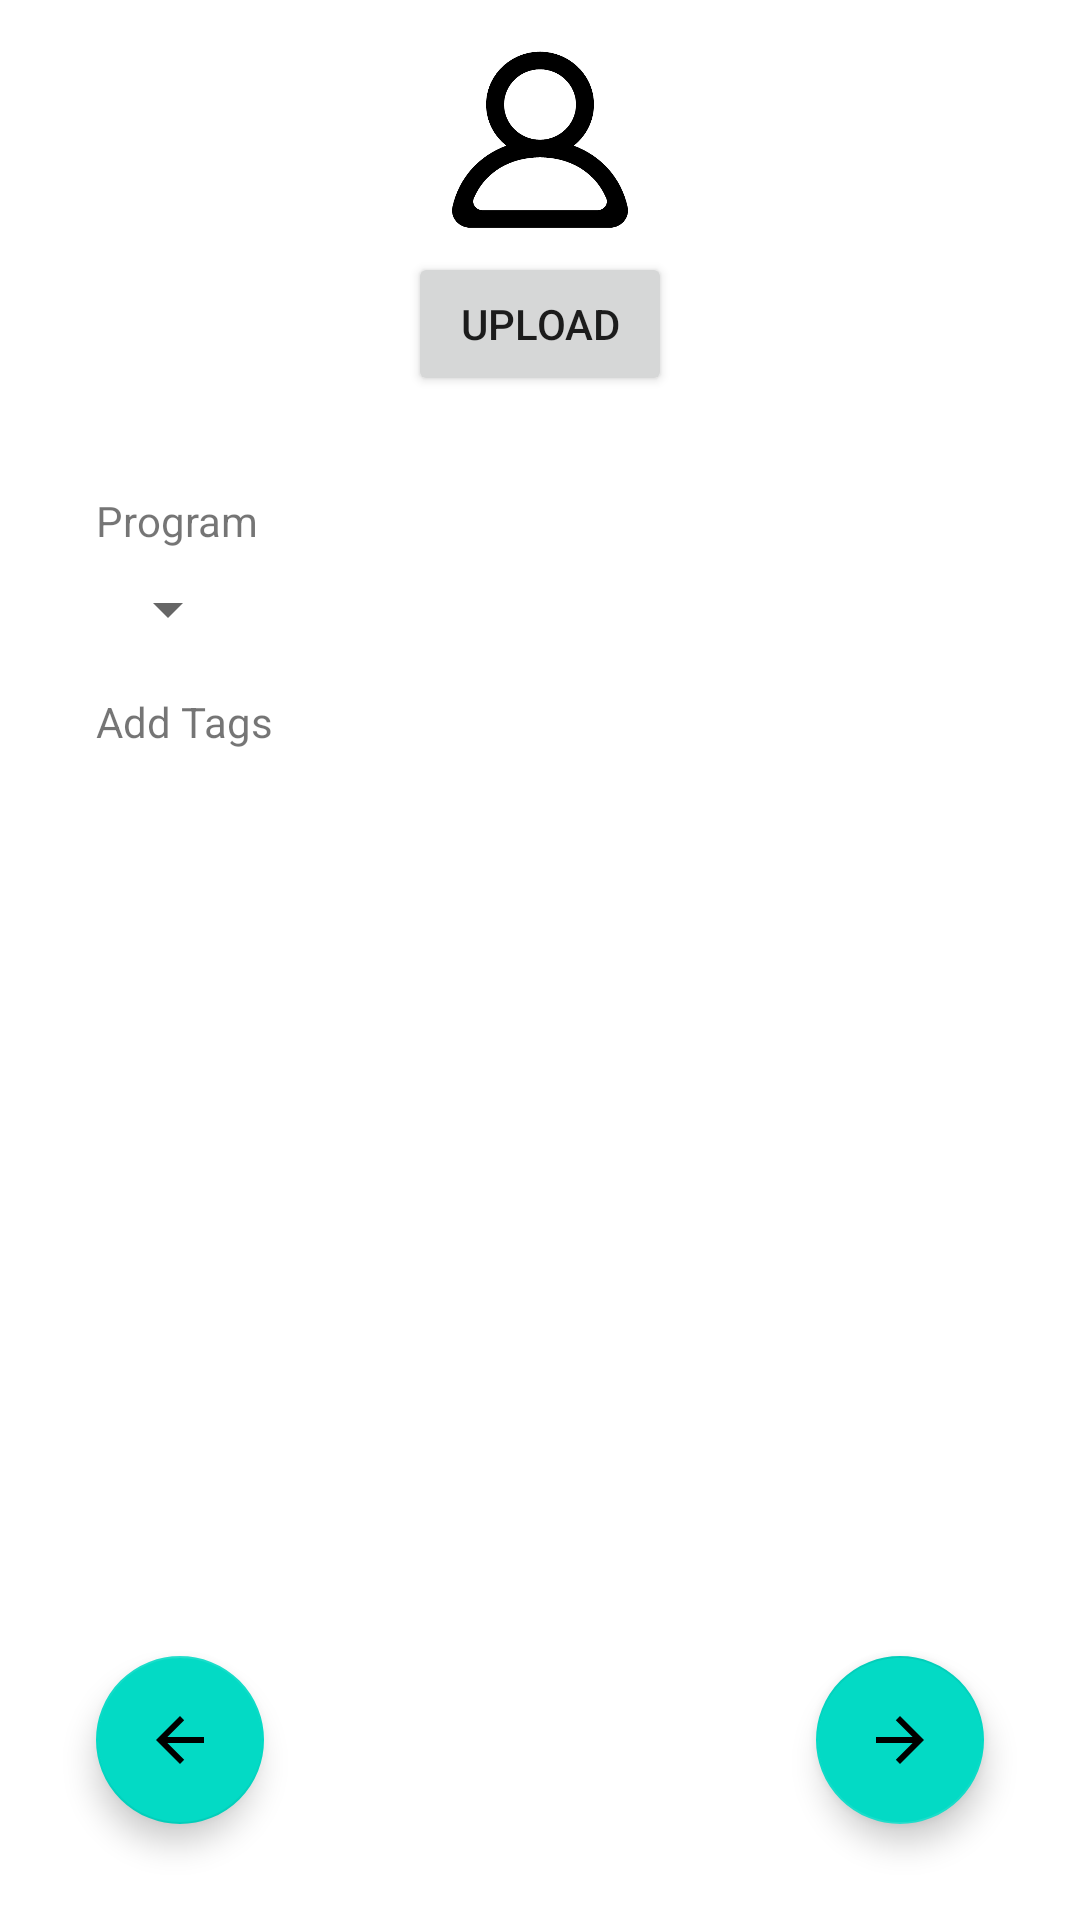

Icon bounding boxes for this 1080px×1920px phone screenshot, format (x1, y1, x2, y2):
no profile: (452, 51, 628, 228)
